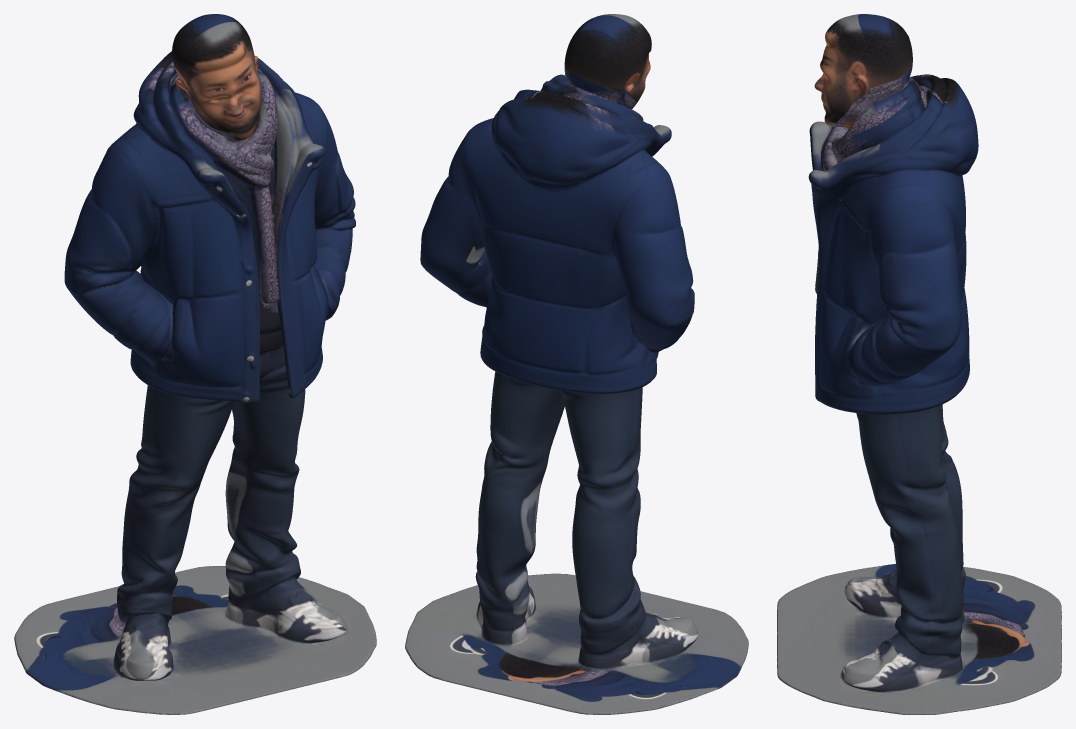
The model's file is roger.glb.
3 renders of one model, left to right at view 1: azimuth 30°, elevation 25°; view 2: azimuth 150°, elevation 25°; view 3: azimuth 270°, elevation 25°, orthographic. The views are drawn at different scales.
Visible parts, largest first — view 1: tripo_node_abac2c26-36de-4976-be32-006e92294707; view 2: tripo_node_abac2c26-36de-4976-be32-006e92294707; view 3: tripo_node_abac2c26-36de-4976-be32-006e92294707.
Part boxes in pixels (x1,y1,x2,y2): tripo_node_abac2c26-36de-4976-be32-006e92294707: (14, 14, 376, 714); tripo_node_abac2c26-36de-4976-be32-006e92294707: (405, 14, 748, 714); tripo_node_abac2c26-36de-4976-be32-006e92294707: (777, 14, 1061, 714).
Size of the model in its own units: 0.523 by 1 by 0.4169.
Materials: 1 (1 with a texture image).
